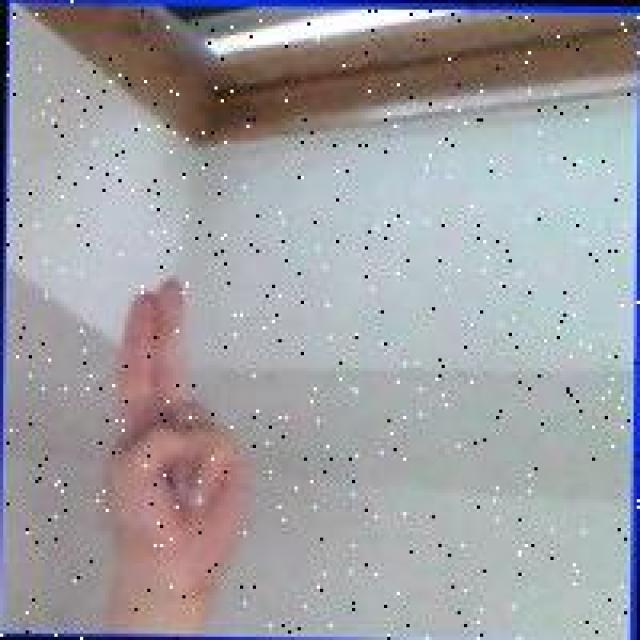U: (94, 270, 261, 588)
